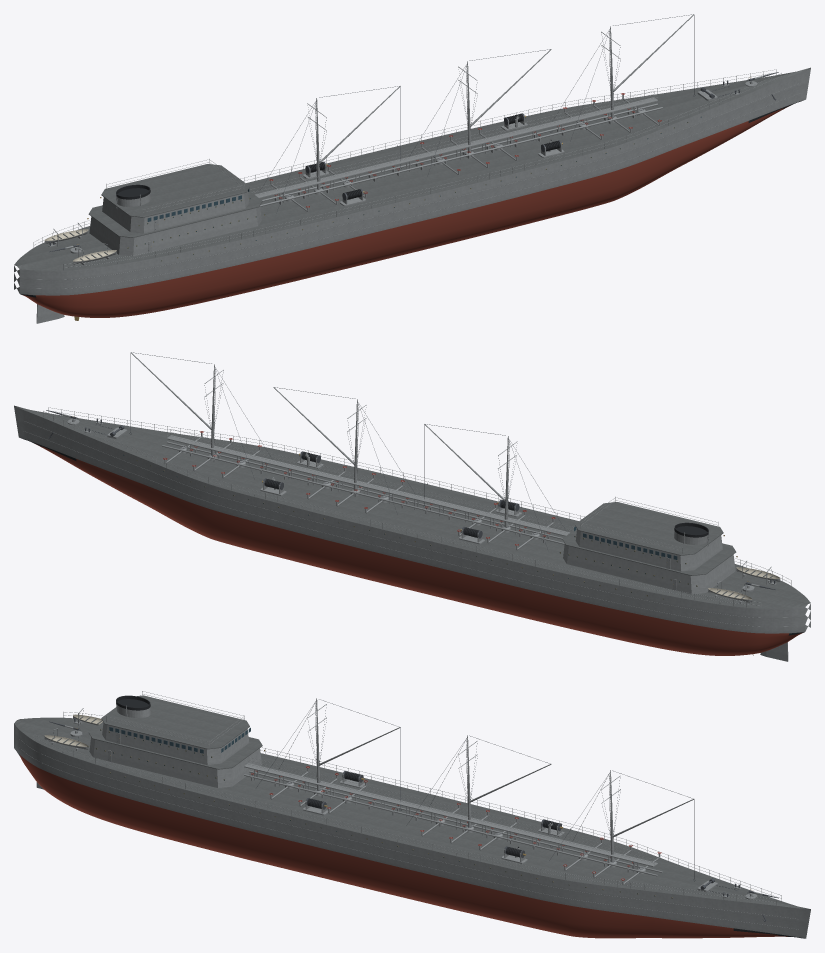
Rendered from us_support_1922.glb.
3 views of the same model, one above another, from view 1: azimuth 30°, elevation 25°; view 2: azimuth 150°, elevation 25°; view 3: azimuth 330°, elevation 25° (orthographic).
Visible parts, largest first — view 1: Fleet support ship · 1922; view 2: Fleet support ship · 1922; view 3: Fleet support ship · 1922.
Boxes of the visible parts, left/top/right/bottom form: Fleet support ship · 1922: left=14, top=14, right=810, bottom=323; Fleet support ship · 1922: left=14, top=352, right=810, bottom=661; Fleet support ship · 1922: left=14, top=691, right=810, bottom=938.
Bounding box in the file's own units: 135 × 26.09 × 17.09.
9 materials, 2 textured.
